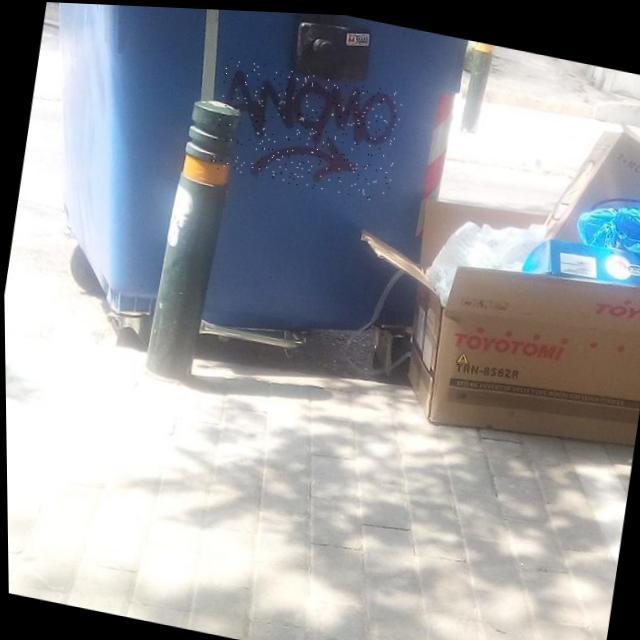-: (208, 54, 404, 200)
